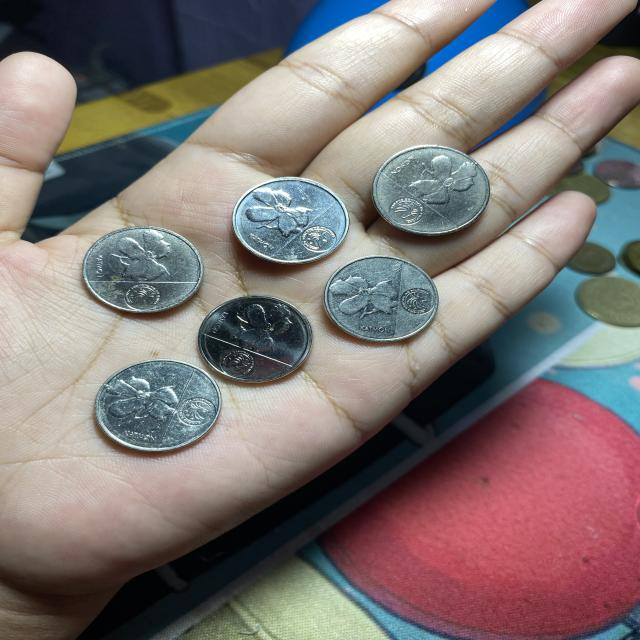25Cent_New_Back: (103, 378, 184, 435), (331, 270, 402, 332), (410, 153, 480, 210), (106, 232, 181, 282), (236, 181, 307, 232)
